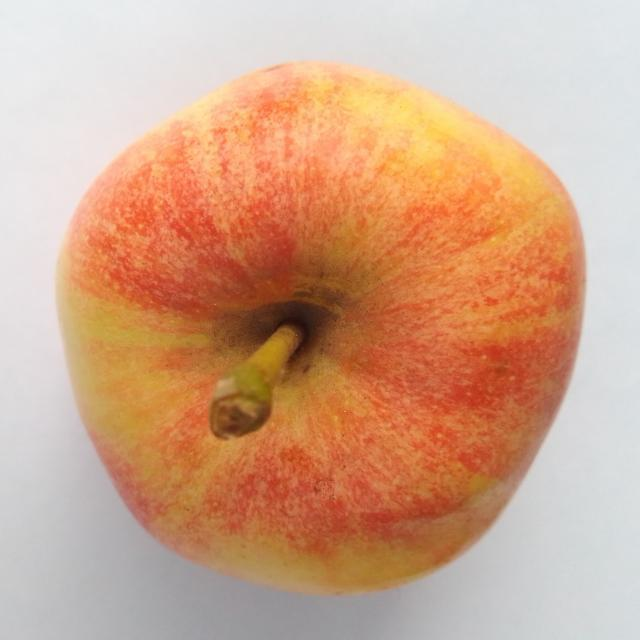Fresh Apple: (53, 56, 590, 596)
